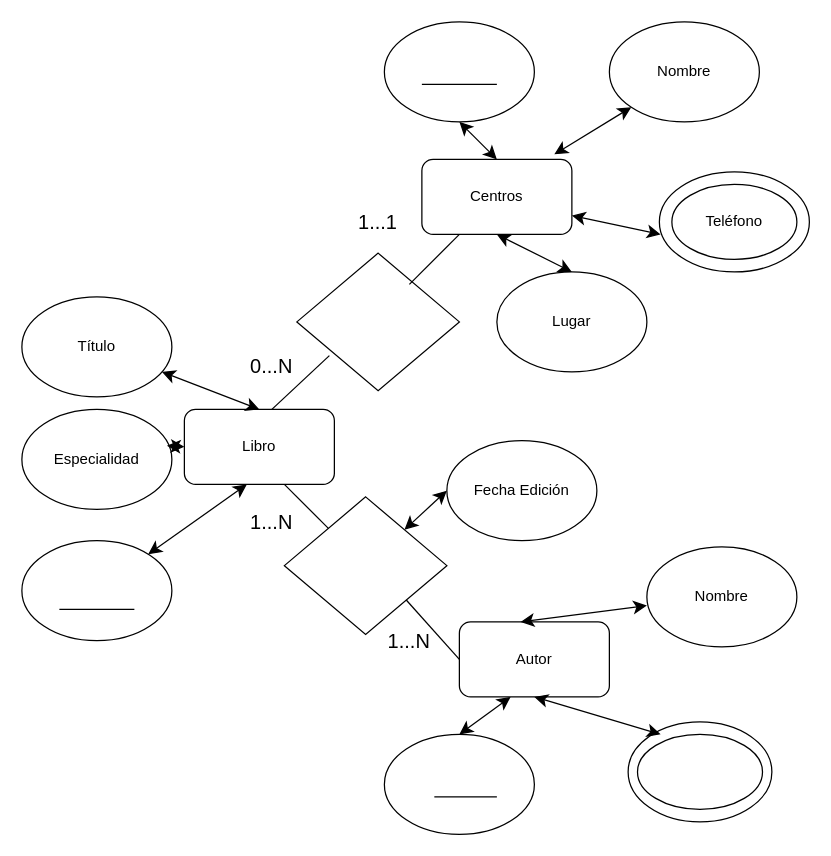
The diagram is 831 pixels wide and 856 high, and some of its shapes have lost their labels. The centre of each missing label's shape, as x and y in pixels:
"Apellido" belongs at point (699, 771).
"Escribir" belongs at point (365, 565).
"ID autor" belongs at point (458, 783).
"ID centros" belongs at point (458, 71).
"ISBN" belongs at point (96, 590).
"Pertenece" belongs at point (377, 321).
